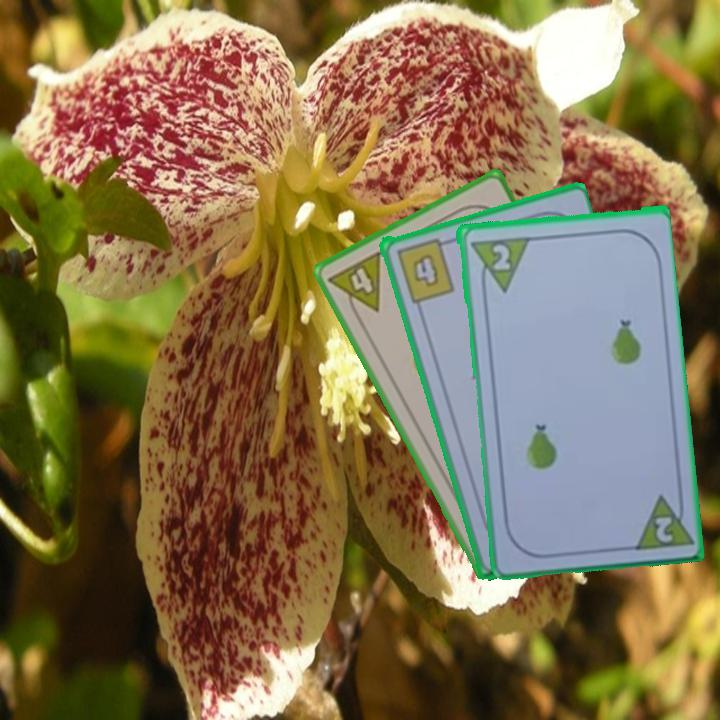2p: (651, 512, 676, 546), (488, 240, 513, 273)
4b: (392, 234, 457, 305)
4p: (324, 247, 384, 324)
